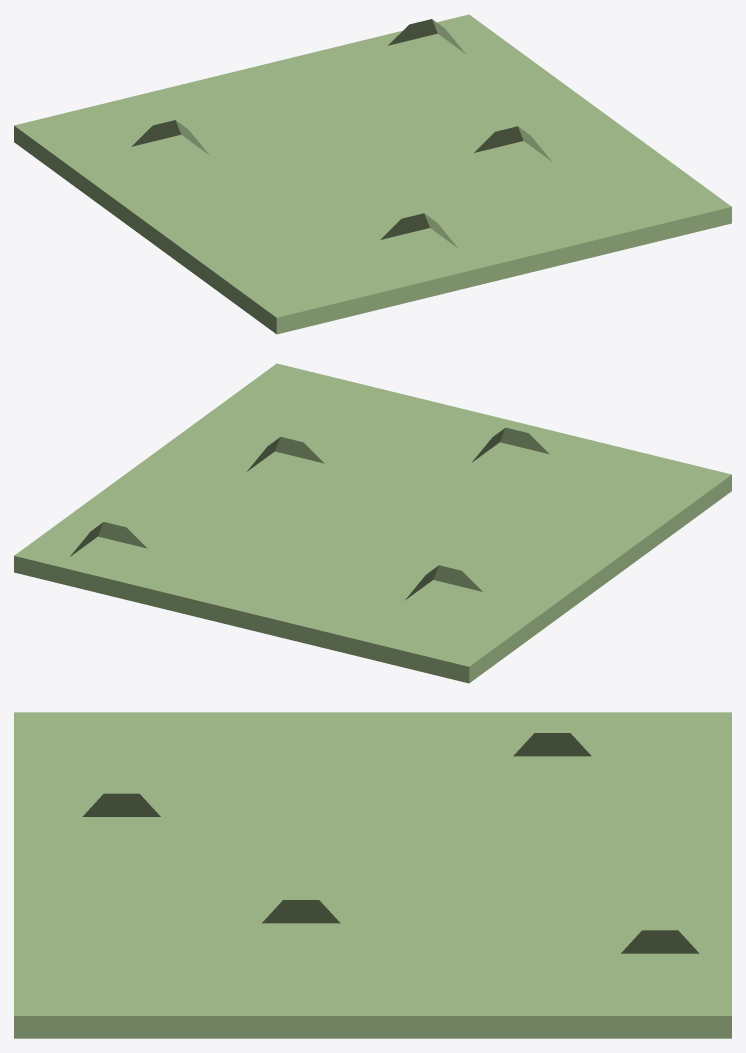
Rendered from allotments-and-community-garden-grass-path-tile-f6b6d9a6__35133.glb.
3 renders of one model, top to bottom at view 1: azimuth 30°, elevation 25°; view 2: azimuth 150°, elevation 25°; view 3: azimuth 270°, elevation 25°, orthographic. The views are drawn at different scales.
Visible parts, largest first — view 1: grass-path-tile-grass; view 2: grass-path-tile-grass; view 3: grass-path-tile-grass.
Part boxes in pixels (x1=…): grass-path-tile-grass: x1=14, y1=14, x2=731, y2=334; grass-path-tile-grass: x1=14, y1=363, x2=731, y2=683; grass-path-tile-grass: x1=14, y1=712, x2=731, y2=1038.
Bounding box in the file's own units: 2 × 0.1699 × 2.
